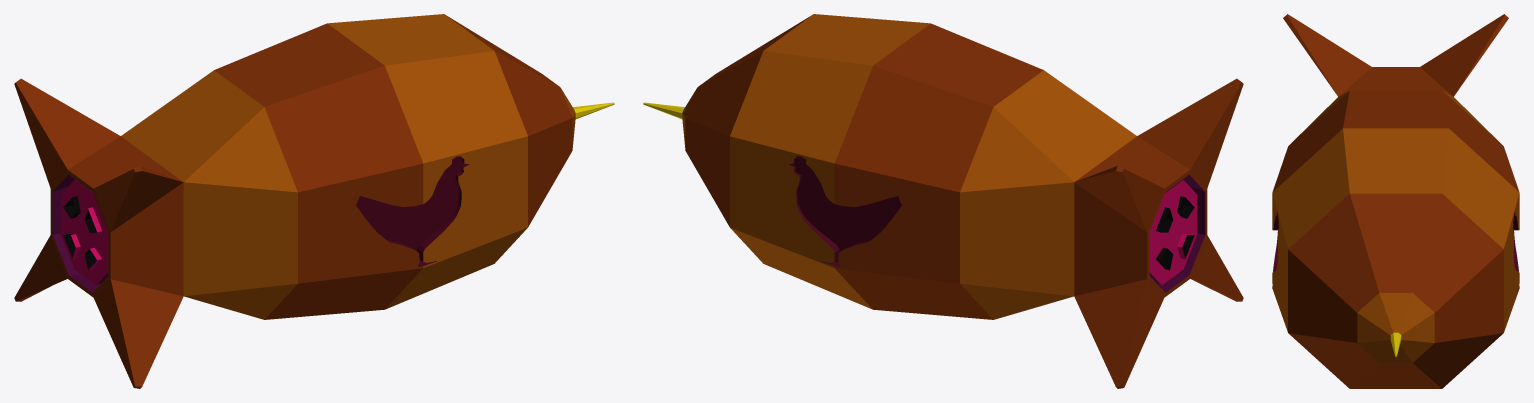
File: Bombe.fbx
3 renders of one model, left to right at view 1: azimuth 30°, elevation 25°; view 2: azimuth 150°, elevation 25°; view 3: azimuth 270°, elevation 25°, orthographic. The views are drawn at different scales.
Visible parts, largest first — view 1: Cube, Cube.003, Cube.001, Cube.005, Cube.004, Cube.006; view 2: Cube, Cube.003, Cube.001, Cube.005, Cube.004, Cube.006; view 3: Cube, Cube.003, Cube.001.
Boxes of the visible parts, x1,y1,x2,y2 form: Cube: (14,15,572,388); Cube.003: (121,14,575,319); Cube.001: (356,156,469,266); Cube.005: (60,180,108,284); Cube.004: (52,174,108,292); Cube.006: (63,196,97,269); Cube: (685,15,1243,388); Cube.003: (682,14,1136,319); Cube.001: (788,156,901,266); Cube.005: (1149,180,1197,284); Cube.004: (1149,174,1205,292); Cube.006: (1156,196,1194,270); Cube: (1272,14,1519,388); Cube.003: (1272,91,1519,363); Cube.001: (1272,212,1519,291).
Bounding box in the file's own units: 463 × 200 × 200.
